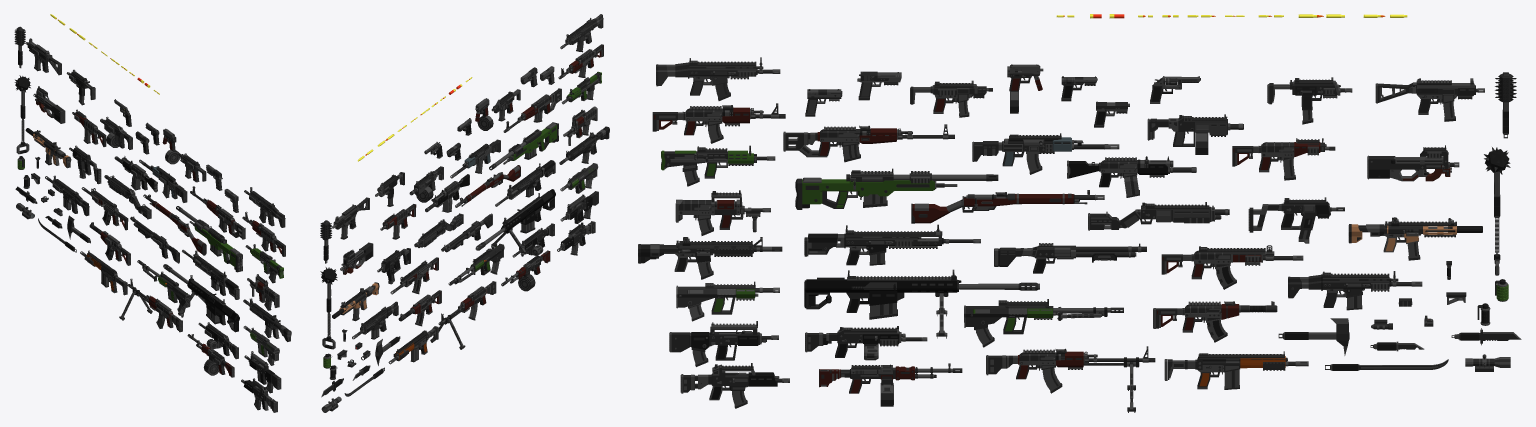
The model's file is Arsenal.glb.
The picture shows the model from 3 angles, left to right: view 1: azimuth 30°, elevation 25°; view 2: azimuth 150°, elevation 25°; view 3: azimuth 270°, elevation 25°; orthographic projection. The views are drawn at different scales.
Visible parts, largest first — view 1: Barret M107, AWM, RPK-556, FN SCAR-SSR, Steyr AUG HBAR, Dragunov SVD, AR-15, H&K G3, FN SCAR-H, FAMAS F1, FN SCAR-L, AAC Honey Badger (+23 smaller); view 2: Barret M107, AWM, RPK-556, FN SCAR-SSR, Steyr AUG HBAR, Dragunov SVD, H&K G3, AR-15, FAMAS F1, FN SCAR-H, AAC Honey Badger, FN SCAR-L (+23 smaller); view 3: Barret M107, AWM, FN SCAR-SSR, RPK-556, Steyr AUG HBAR, Dragunov SVD, Mosin Nagat, FN SCAR-H, AR-15, H&K G3, FN SCAR-L, FAMAS F1 (+23 smaller).
Part boxes in pixels (x1,y1,x2,y2): Barret M107: (163,264,239,332); AWM: (176,206,242,272); RPK-556: (119,278,182,332); FN SCAR-SSR: (182,249,239,299); Steyr AUG HBAR: (137,260,190,307); Dragunov SVD: (190,186,245,239); AR-15: (243,298,291,341); H&K G3: (80,250,127,295); FN SCAR-H: (45,175,89,216); FAMAS F1: (244,351,281,389); FN SCAR-L: (244,187,285,227); AAC Honey Badger: (25,128,71,168); Barret M107: (475,189,555,256); AWM: (489,122,558,170); RPK-556: (430,281,496,349); FN SCAR-SSR: (495,160,555,206); Steyr AUG HBAR: (448,243,504,285); Dragunov SVD: (503,88,561,132); H&K G3: (388,326,438,364); AR-15: (559,126,609,164); FAMAS F1: (560,191,598,223); FN SCAR-H: (352,301,398,339); AAC Honey Badger: (332,282,379,318); FN SCAR-L: (560,14,603,49); Barret M107: (804,269,1039,338); AWM: (795,168,998,209); FN SCAR-SSR: (804,224,980,265); RPK-556: (986,346,1155,412); Steyr AUG HBAR: (964,299,1123,334); Dragunov SVD: (783,124,954,157); Mosin Nagat: (911,190,1104,223); FN SCAR-H: (1288,271,1422,307); AR-15: (638,237,782,271); H&K G3: (1164,351,1308,389); FN SCAR-L: (656,57,780,95); FAMAS F1: (669,321,778,360).
Size of the model in its own units: 1.01 by 7.3 by 14.86.
Materials: 4 (1 with a texture image).
